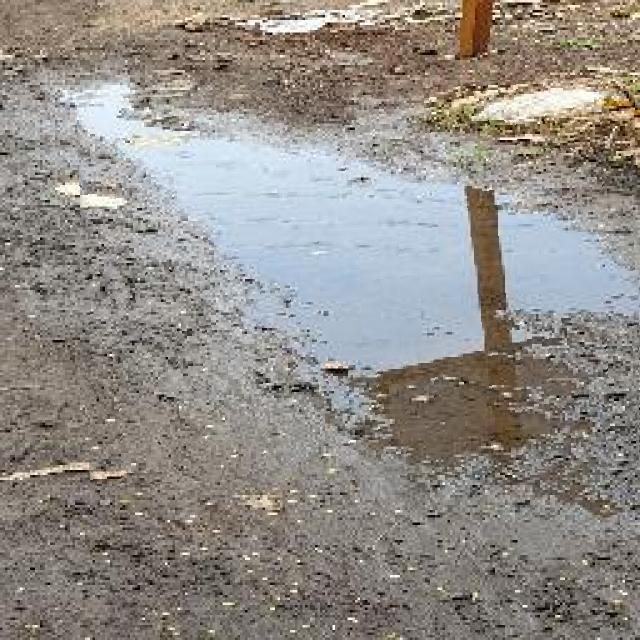puddle: (80, 82, 640, 482)
